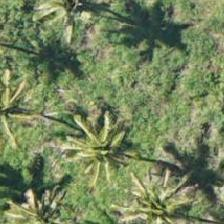coconut_tree: (56, 110, 146, 200), (24, 0, 114, 56)
